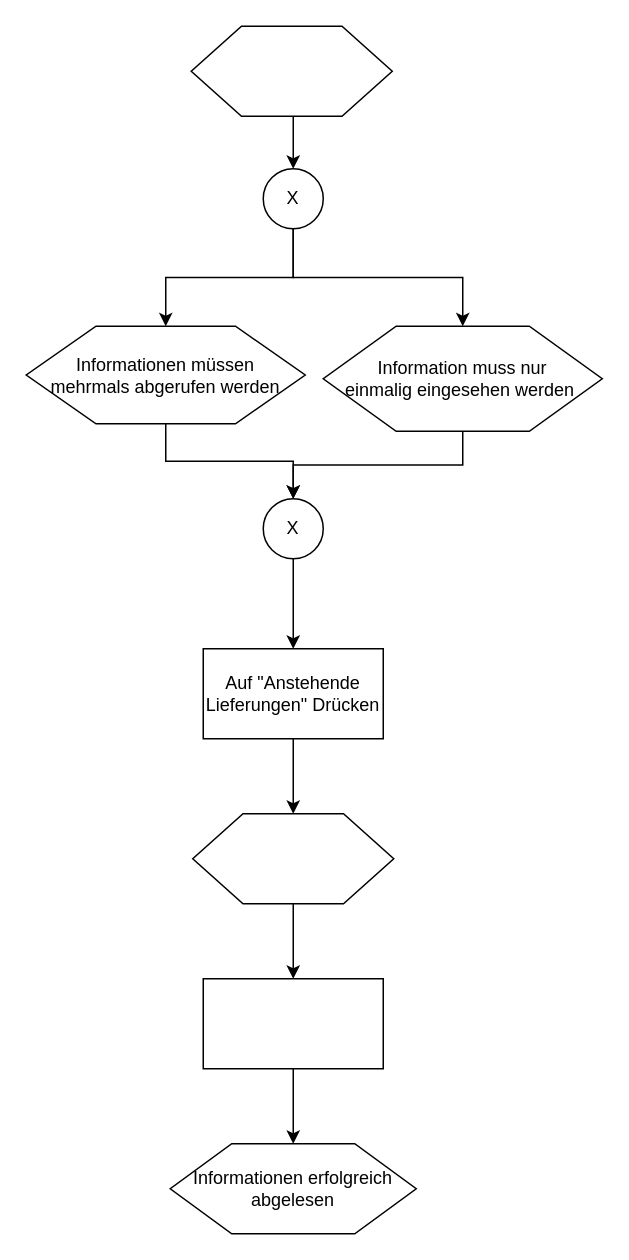
Image size: 629x1260. Some labels were removed from this diagram. The centre of each missing label's shape, as x and y in pixels:
"Anstehende Lieferungen" Ansicht wird geöffnet: point (292, 858)
Information zu einer Lieferung Einsehen: point (291, 70)
Tabelle in "Anstehende Lieferungen" ablesen: point (292, 1023)
